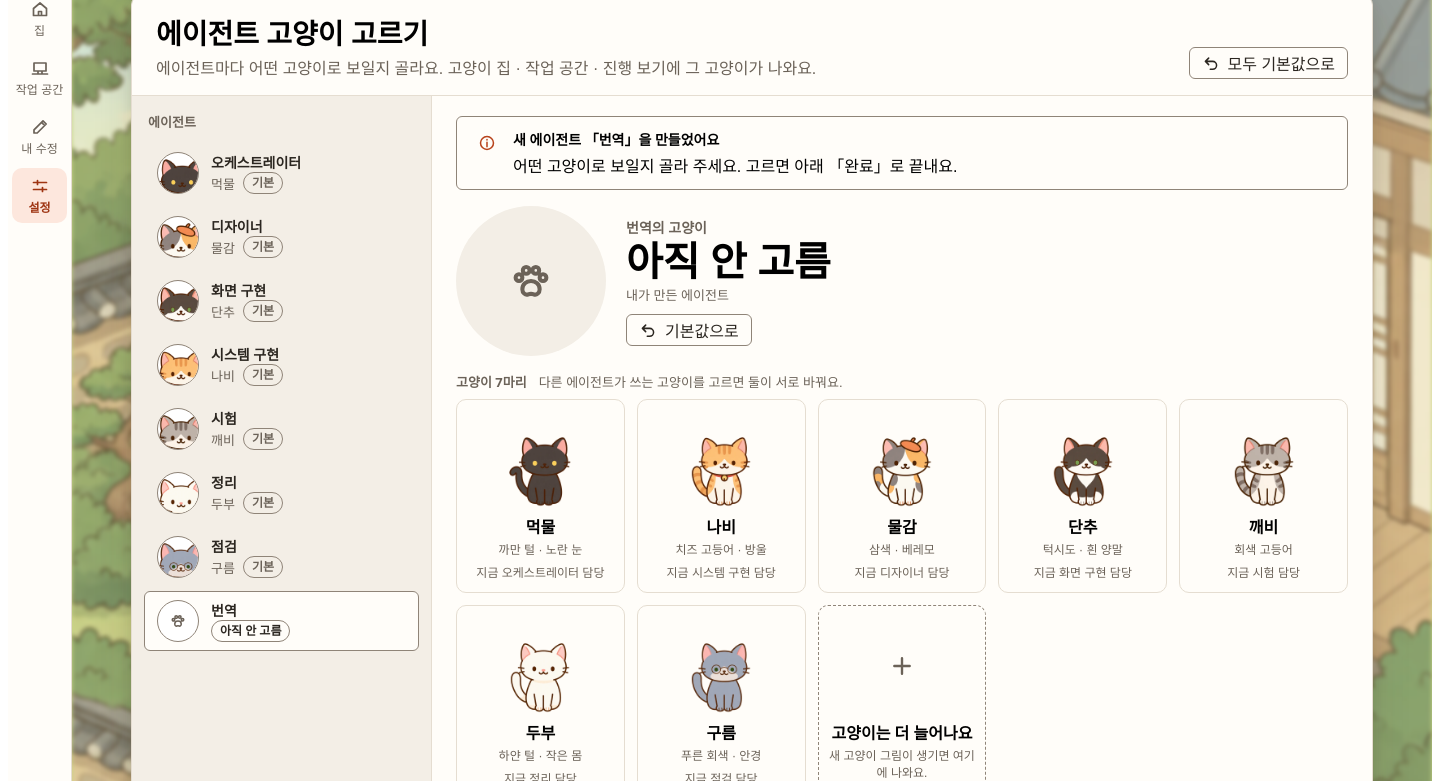
Scenario: 에이전트 고양이 고르기 › 완료 단추는 새 에이전트를 만들고 들어온 경우만 — 고르기 전에는 못 누르고(이유를 글로), 고르면 내 수정으로 (D-43)
Expected: the text "어떤 고양이로 보일지 골라 주세요. 고르면 아래 「완료」로 끝내요." is shown, [513,158,958,175]
What coordinates should you click on to do the following:
click the radio button labelled "나비 치즈 고등어 · 방울 지금 시스템 구현 담당"
I would click on:
 (721, 496)
Its box is [637,399,806,593].
(page scrolled)
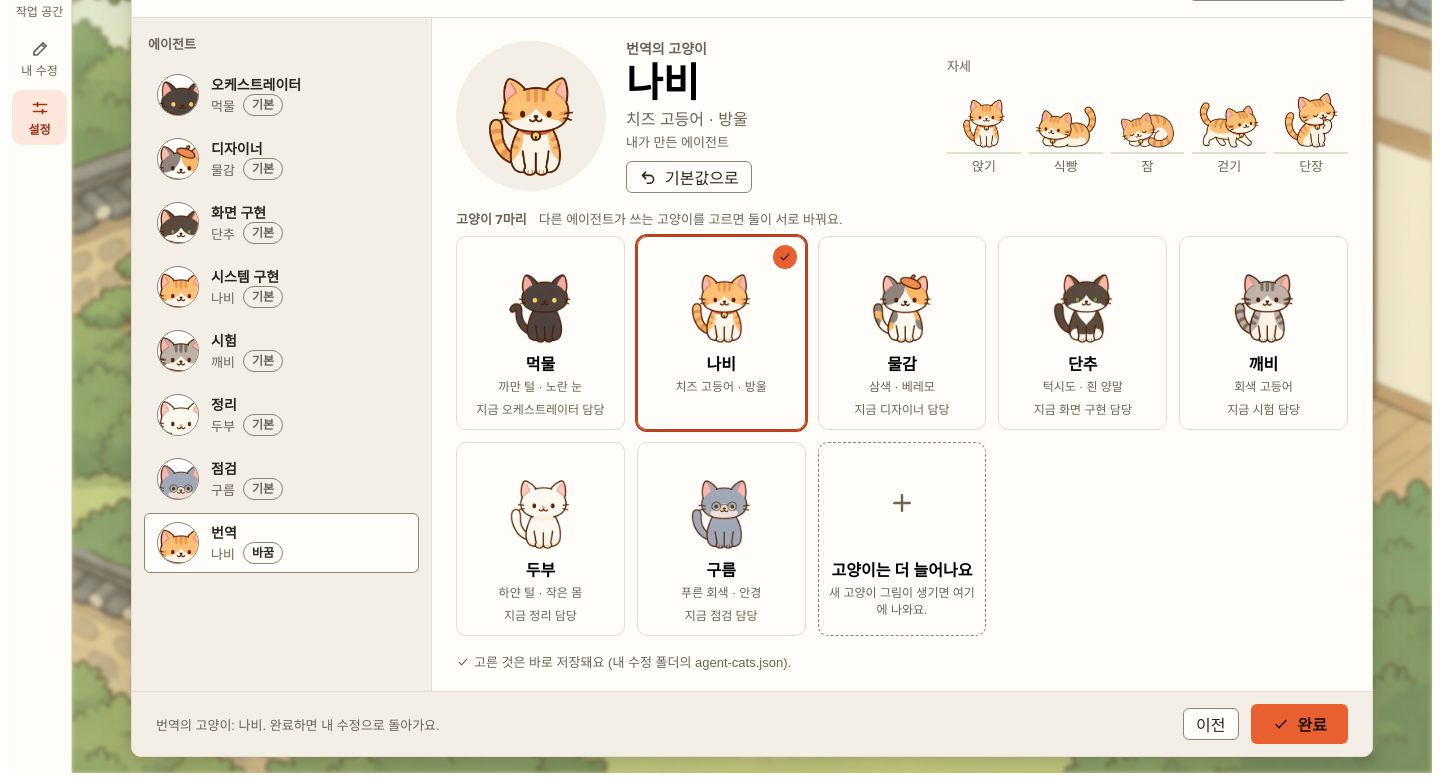
Expected: the text "번역의 고양이: 나비. 완료하면 내 수정으로 돌아가요." is shown, [156,718,440,732]
